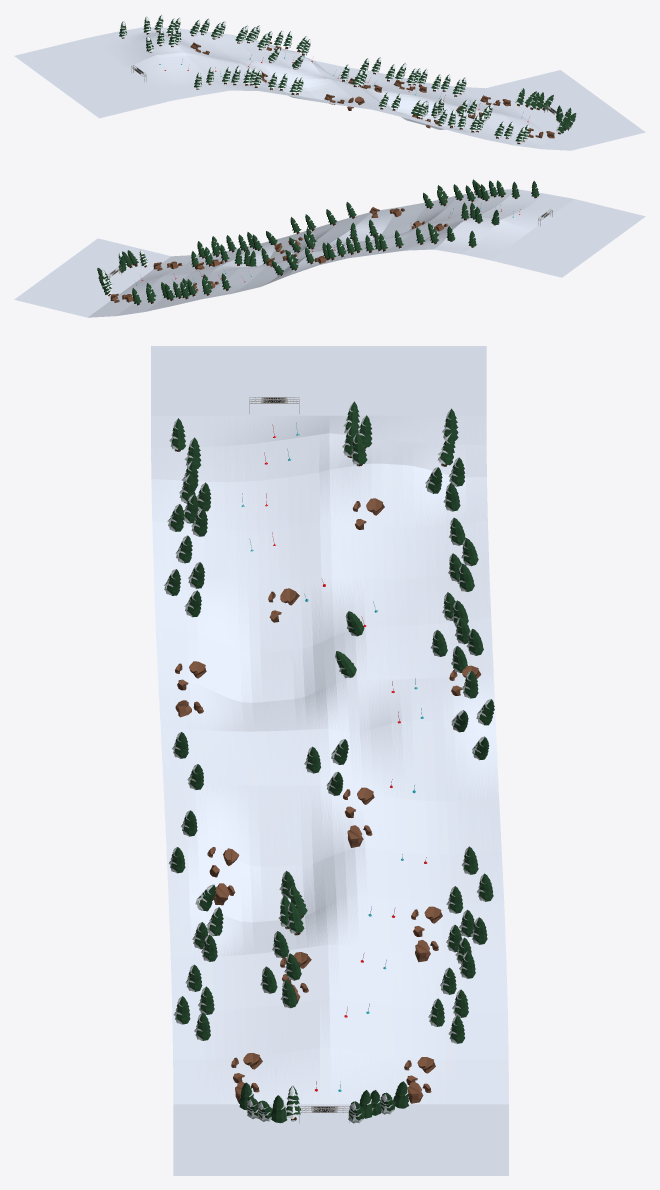
Rendered from pista.obj.
3 renders of one model, top to bottom at view 1: azimuth 30°, elevation 25°; view 2: azimuth 150°, elevation 25°; view 3: azimuth 270°, elevation 25°, orthographic. The views are drawn at different scales.
Parts seen in each view (by area): view 1: Grid, FirTreeSnowE_FirTreeGreen_0.084, Plane.007_Spring_0.001; view 2: Grid, FirTreeSnowE_FirTreeGreen_0.084, Plane.007_Spring_0.001; view 3: Grid, FirTreeSnowE_FirTreeGreen_0.084, Plane.007_Spring_0.001.
Part boxes in pixels (x1=…): Grid: x1=14, y1=27, x2=645, y2=150; FirTreeSnowE_FirTreeGreen_0.084: x1=119, y1=14, x2=529, y2=144; Plane.007_Spring_0.001: x1=190, y1=42, x2=554, y2=138; Grid: x1=14, y1=189, x2=645, y2=317; FirTreeSnowE_FirTreeGreen_0.084: x1=132, y1=179, x2=539, y2=305; Plane.007_Spring_0.001: x1=110, y1=207, x2=448, y2=302; Grid: x1=151, y1=346, x2=508, y2=1175; FirTreeSnowE_FirTreeGreen_0.084: x1=164, y1=401, x2=494, y2=1043; Plane.007_Spring_0.001: x1=175, y1=498, x2=481, y2=1103.
Bounding box in the file's own units: 597 × 181 × 171.
Materials: 13 (13 with a texture image).
